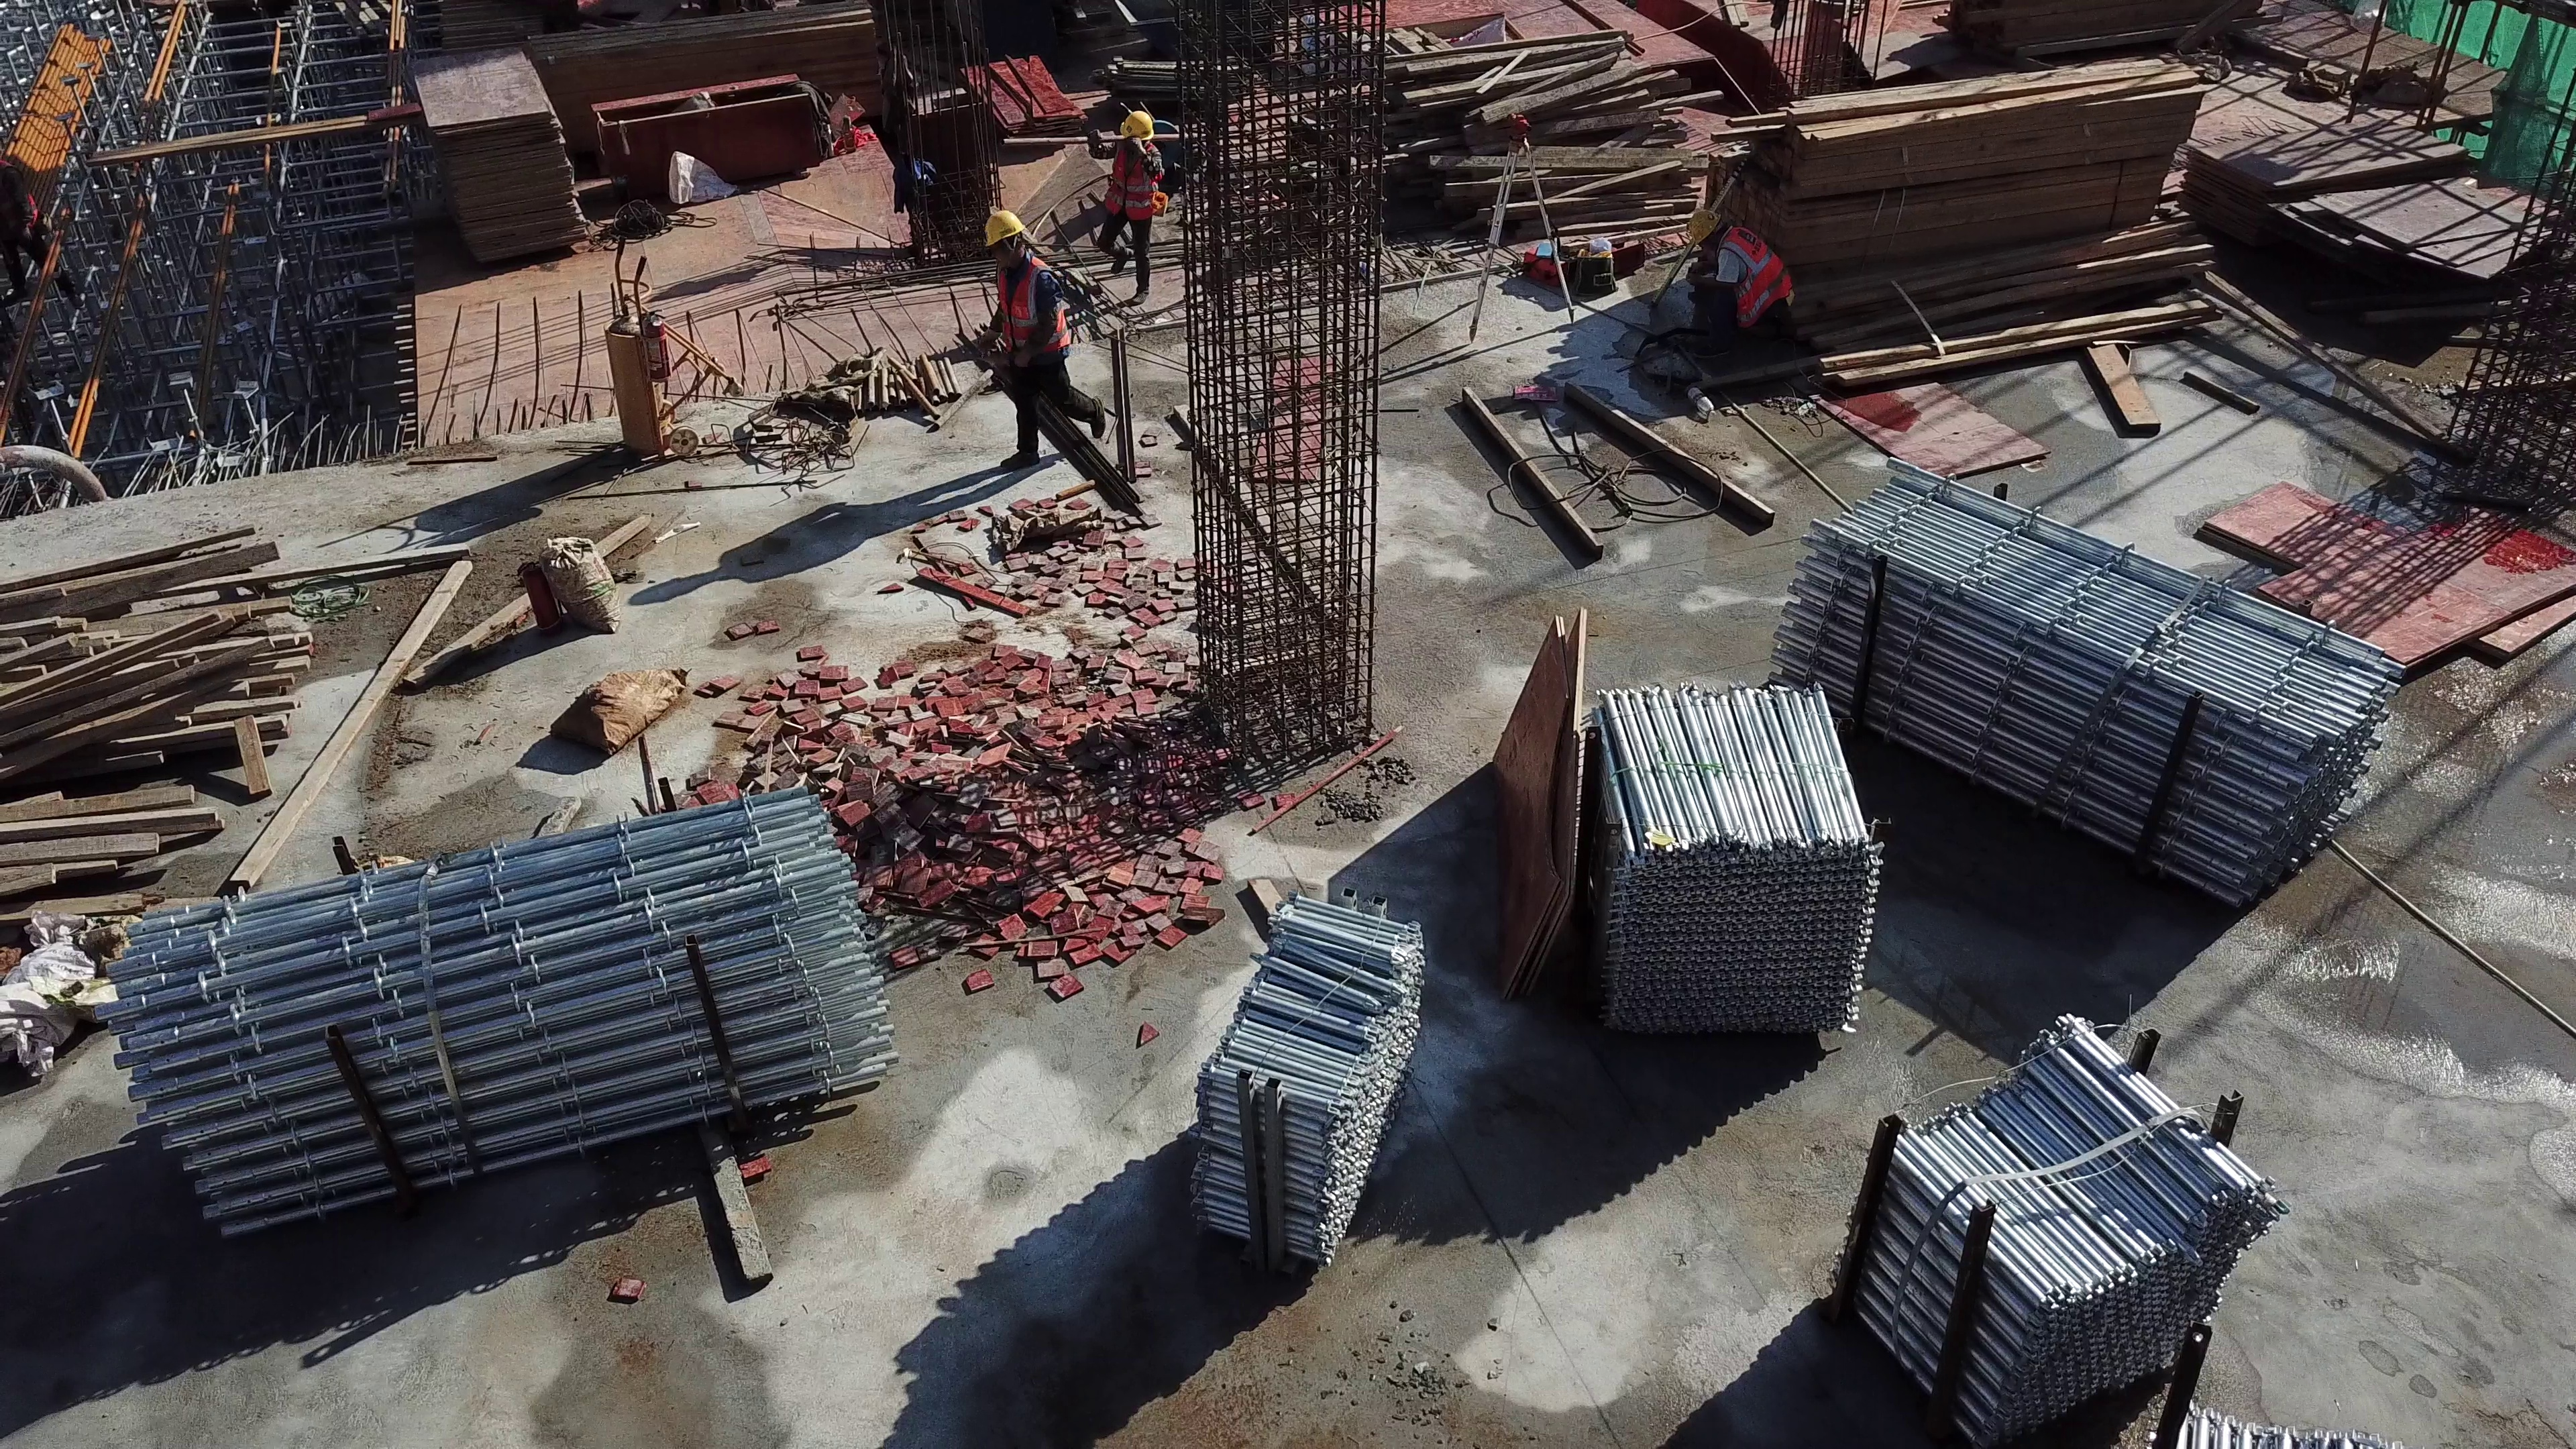board: (403, 57, 592, 258), (961, 60, 1083, 137)
helmet: (983, 212, 1028, 249), (1120, 110, 1154, 143), (1689, 208, 1718, 244)
person: (970, 208, 1100, 470), (1686, 199, 1792, 331), (1102, 109, 1158, 299), (7, 164, 73, 304)
scaffold: (111, 792, 880, 1229), (1782, 462, 2360, 898), (1871, 1016, 2267, 1415), (1588, 680, 1872, 1034), (1196, 890, 1413, 1267), (2172, 1392, 2423, 1447)
vest: (994, 257, 1067, 353), (1721, 226, 1790, 323), (1110, 146, 1155, 223)
wood: (1759, 76, 2197, 267), (536, 1, 900, 83)
